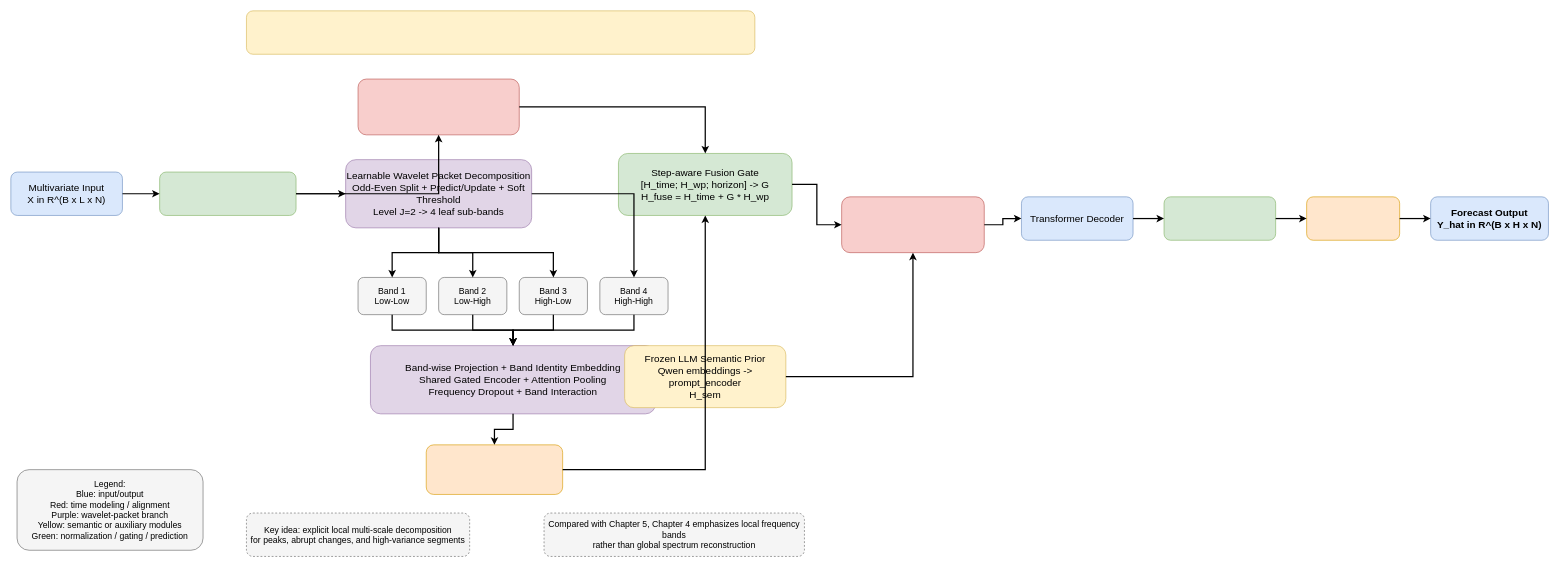
Image size: 1559x567. Some labels were removed from this diagram. The centre of each missing label's shape, as x and y in pixels:
"Chapter 4 Wavelet-Packet-Enhanced Framework 融合小波包分解的时频域增强模型整体结构图" belongs at (x=500, y=32).
"Cross-modal Alignment (CMA) Query: H_fuse Key / Value: H_sem" belongs at (x=912, y=224).
"Linear(C -> H) Prediction Head" belongs at (x=1219, y=218).
"RevIN + Reshape X -> X' in R^(B x N x L)" belongs at (x=227, y=193).
"RevIN Inverse" belongs at (x=1353, y=218).
"Time-domain Branch Linear(L -> C) + Gated Transformer H_time" belongs at (x=438, y=106).
"Wavelet-Packet Feature H_wp in R^(B x N x C)" belongs at (x=494, y=469).
